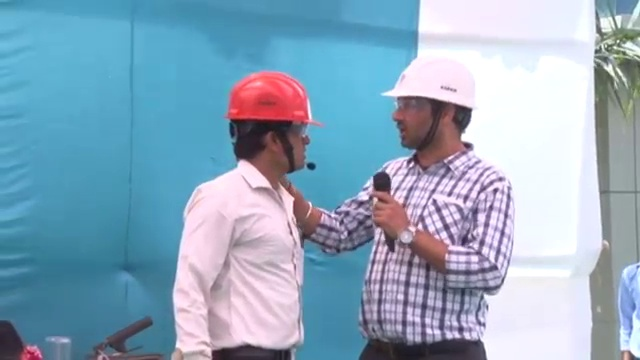helmet: (221, 69, 325, 128), (378, 54, 480, 112)
helmet_on: (222, 68, 324, 172), (375, 51, 479, 153)
person: (296, 50, 520, 360), (171, 70, 323, 360)
